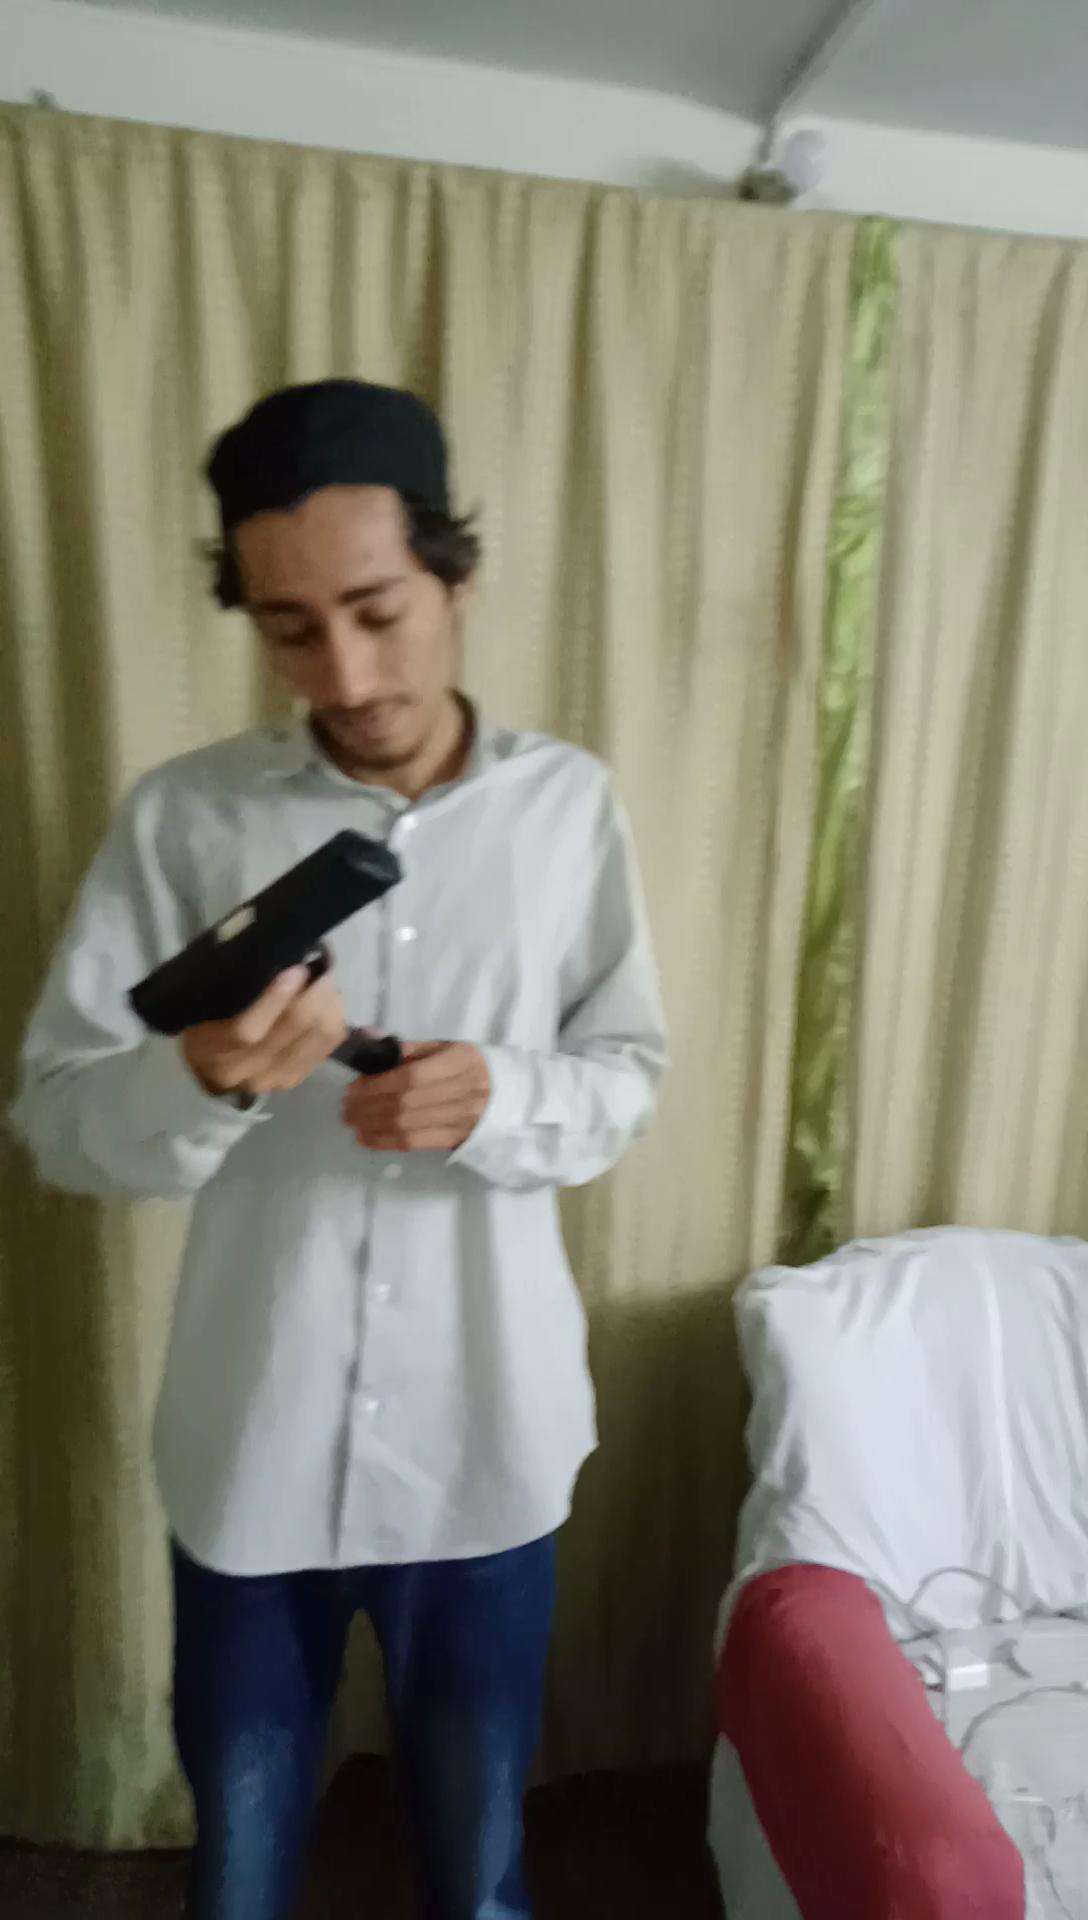criminal: (4, 371, 686, 1920)
weapon: (116, 816, 421, 1089)
